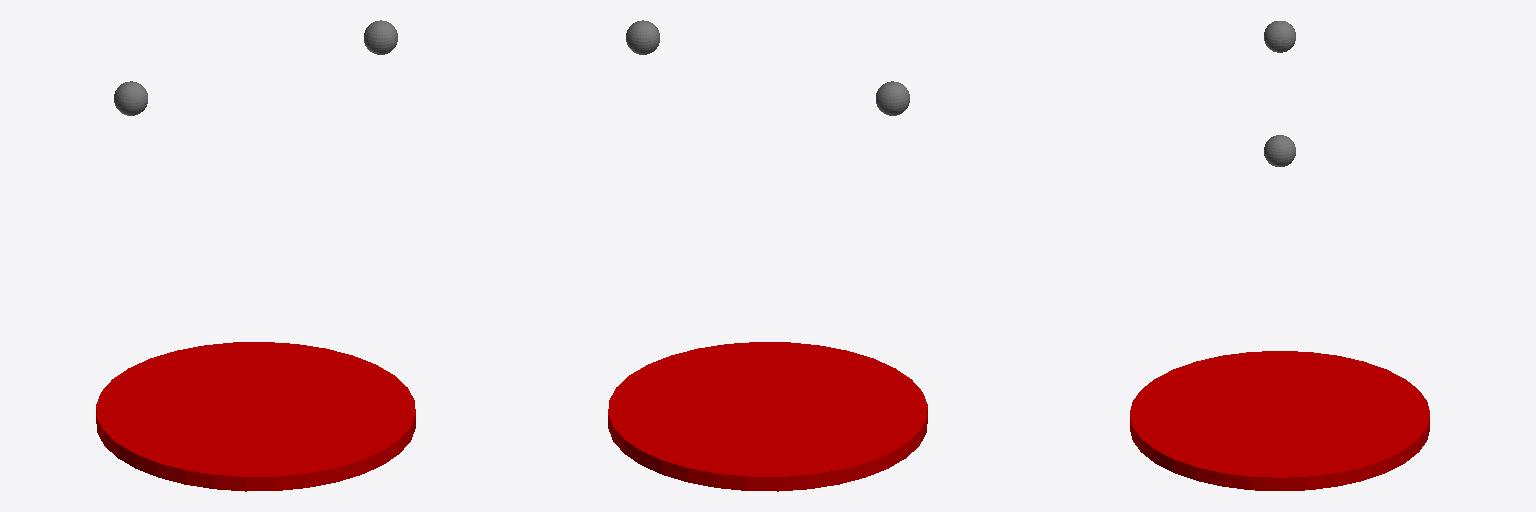
The robot description file, URDF, robot "robot":
<robot name="robot">

  <link name="base_link">
    <visual>
      <geometry>
        <cylinder length="0.05" radius="0.5"/>
      </geometry>
      <material name="red">
        <color rgba="0.8 0 0 0.6"/>
      </material>
      <origin rpy="0 0 0" xyz="0. 0 0"/>
    </visual>
    <collision>
      <geometry>
        <cylinder length="0.05" radius="0.5"/>
      </geometry>
      <origin rpy="0 0 0" xyz="0. 0 0"/>
    </collision>
    <inertial>
      <mass value="0.1"/>
      <inertia ixx="0.1" ixy="0.0" ixz="0.0" iyy="0.1" iyz="0.0" izz="0.1"/>
    </inertial>
  </link>
  
  <link name="f1_link1">
    <visual>
      <geometry>
        <capsule length="0.2" radius="0.05"/>
      </geometry>
      <material name="red">
        <color rgba="0.8 0 0 1"/>
      </material>
      <origin rpy="0 0 0" xyz="0 0 0.1"/>
    </visual>
    <collision>
      <geometry>
        <capsule length="0.2" radius="0.05"/>
      </geometry>
      <origin rpy="0 0 0" xyz="0 0 0.1"/>
    </collision>
    <inertial>
      <mass value="0.2"/>
      <inertia ixx="1.0" ixy="0.0" ixz="0.0" iyy="1.0" iyz="0.0" izz="1.0"/>
    </inertial>
  </link>
  
  <link name="f1_link2">
    <visual>
      <geometry>
        <capsule length="0.5" radius="0.05"/>
      </geometry>
      <material name="green">
        <color rgba="0 0.8 0 1"/>
      </material>
      <origin rpy="0 0 0" xyz="0 0 0.25"/>
    </visual>
    <collision>
      <geometry>
        <capsule length="0.5" radius="0.05"/>
      </geometry>
      <origin rpy="0 0 0" xyz="0 0 0.25"/>
    </collision>
    <inertial>
      <mass value="0.2"/>
      <inertia ixx="1.0" ixy="0.0" ixz="0.0" iyy="1.0" iyz="0.0" izz="1.0"/>
    </inertial>
  </link>

  <link name="f1_link3">
    <visual>
      <geometry>
        <capsule length="0.5" radius="0.05"/>
      </geometry>
      <material name="blue">
        <color rgba="0 0 0.8 1"/>
      </material>
      <origin rpy="0 0 0" xyz="0 0 0.25"/>
    </visual>
    <collision>
      <geometry>
        <capsule length="0.5" radius="0.05"/>
      </geometry>
      <origin rpy="0 0 0" xyz="0 0 0.25"/>
    </collision>
    <inertial>
      <mass value="0.2"/>
      <inertia ixx="1.0" ixy="0.0" ixz="0.0" iyy="1.0" iyz="0.0" izz="1.0"/>
    </inertial>
  </link>

  <link name="f1_eePoint">
    <visual>
      <geometry>
        <sphere  radius="0.054"/>
      </geometry>
      <material name="grey">
        <color rgba="0.5 0.5 0.5 1"/>
      </material>
      <origin rpy="0 0 0" xyz="0 0 0.0"/>
    </visual>
    <collision>
      <geometry>
        <sphere radius="0.054"/>
      </geometry>
      <origin rpy="0 0 0" xyz="0 0 0.0"/>
    </collision>
    <inertial>
      <mass value="0.001"/>
      <inertia ixx="1.0" ixy="0.0" ixz="0.0" iyy="1.0" iyz="0.0" izz="1.0"/>
    </inertial>
  </link>

  <link name="f2_link1">
    <visual>
      <geometry>
        <capsule length="0.2" radius="0.05"/>
      </geometry>
      <material name="red">
        <color rgba="0.8 0 0 1"/>
      </material>
      <origin rpy="0 0 0" xyz="0 0 0.1"/>
    </visual>
    <collision>
      <geometry>
        <capsule length="0.2" radius="0.05"/>
      </geometry>
      <origin rpy="0 0 0" xyz="0 0 0.1"/>
    </collision>
    <inertial>
      <mass value="0.2"/>
      <inertia ixx="1.0" ixy="0.0" ixz="0.0" iyy="1.0" iyz="0.0" izz="1.0"/>
    </inertial>
  </link>
  
  <link name="f2_link2">
    <visual>
      <geometry>
        <capsule length="0.5" radius="0.05"/>
      </geometry>
      <material name="green">
        <color rgba="0 0.8 0 1"/>
      </material>
      <origin rpy="0 0 0" xyz="0 0 0.25"/>
    </visual>
    <collision>
      <geometry>
        <capsule length="0.5" radius="0.05"/>
      </geometry>
      <origin rpy="0 0 0" xyz="0 0 0.25"/>
    </collision>
    <inertial>
      <mass value="0.2"/>
      <inertia ixx="1.0" ixy="0.0" ixz="0.0" iyy="1.0" iyz="0.0" izz="1.0"/>
    </inertial>
  </link>

  <link name="f2_link3">
    <visual>
      <geometry>
        <capsule length="0.5" radius="0.05"/>
      </geometry>
      <material name="blue">
        <color rgba="0 0 0.8 1"/>
      </material>
      <origin rpy="0 0 0" xyz="0 0 0.25"/>
    </visual>
    <collision>
      <geometry>
        <capsule length="0.5" radius="0.05"/>
      </geometry>
      <origin rpy="0 0 0" xyz="0 0 0.25"/>
    </collision>
    <inertial>
      <mass value="0.2"/>
      <inertia ixx="1.0" ixy="0.0" ixz="0.0" iyy="1.0" iyz="0.0" izz="1.0"/>
    </inertial>
  </link>

  <link name="f2_eePoint">
    <visual>
      <geometry>
        <sphere  radius="0.054"/>
      </geometry>
      <material name="grey">
        <color rgba="0.5 0.5 0.5 1"/>
      </material>
      <origin rpy="0 0 0" xyz="0 0 0.0"/>
    </visual>
    <collision>
      <geometry>
        <sphere radius="0.054"/>
      </geometry>
      <origin rpy="0 0 0" xyz="0 0 0.0"/>
    </collision>
    <inertial>
      <mass value="0.001"/>
      <inertia ixx="1.0" ixy="0.0" ixz="0.0" iyy="1.0" iyz="0.0" izz="1.0"/>
    </inertial>
  </link>

  <joint name="f1_joint1" type="revolute">
    <parent link="base_link"/>
    <child link="f1_link1"/>
    <origin xyz="0.45 0 0." rpy="0 0 0" />
    <axis xyz = "1 0 0" />
    <dynamics damping="0.0" friction="0.0"/>
    <limit effort="300" velocity="1.0" lower="-2.35619" upper="2.35619" />
  </joint>

  <joint name="f1_joint2" type="revolute">
    <parent link="f1_link1"/>
    <child link="f1_link2"/>
    <origin xyz="0 0 0.2" rpy="0 0 0" />
    <axis xyz = "0 1 0" />
    <dynamics damping="0.0" friction="0.0"/>
    <limit effort="300" velocity="1.0" lower="-2.35619" upper="2.35619" />
  </joint>

  <joint name="f1_joint3" type="revolute">
    <parent link="f1_link2"/>
    <child link="f1_link3"/>
    <origin xyz="0 0 0.5" rpy="0 0 0" />
    <axis xyz = "0 1 0" />
    <dynamics damping="0.0" friction="0.0"/>
    <limit effort="300" velocity="1.0" lower="-2.35619" upper="2.96706" />
  </joint>

  <joint name="f1_joint4" type="fixed">
    <parent link="f1_link3"/>
    <child link="f1_eePoint"/>
    <origin xyz="0. 0. 0.5"/>
  </joint>

  <joint name="f2_joint1" type="revolute">
    <parent link="base_link"/>
    <child link="f2_link1"/>
    <origin xyz="-0.45 0 0" rpy="0 0 3.14159" />
    <axis xyz = "1 0 0" />
    <dynamics damping="0.0" friction="0.0"/>
    <limit effort="300" velocity="1.0" lower="-2.35619" upper="2.35619" />
  </joint>

  <joint name="f2_joint2" type="revolute">
    <parent link="f2_link1"/>
    <child link="f2_link2"/>
    <origin xyz="0 0 0.2" rpy="0 0 0" />
    <axis xyz = "0 1 0" />
    <dynamics damping="0.0" friction="0.0"/>
    <limit effort="300" velocity="1.0" lower="-2.35619" upper="2.35619" />
  </joint>

  <joint name="f2_joint3" type="revolute">
    <parent link="f2_link2"/>
    <child link="f2_link3"/>
    <origin xyz="0 0 0.5" rpy="0 0 0" />
    <axis xyz = "0 1 0" />
    <dynamics damping="0.0" friction="0.0"/>
    <limit effort="300" velocity="1.0" lower="-2.35619" upper="2.96706" />
  </joint>

  <joint name="f2_joint4" type="fixed">
    <parent link="f2_link3"/>
    <child link="f2_eePoint"/>
    <origin xyz="0. 0. 0.5"/>
  </joint>

</robot>

--- What the picture shows (computed from the rendered views, not written in the file) ---
The picture shows the robot from 3 angles, left to right: view 1: azimuth 30°, elevation 25°; view 2: azimuth 150°, elevation 25°; view 3: azimuth 270°, elevation 25°; orthographic projection.
Robot: robot — 9 links, 8 joints (6 revolute, 2 fixed); root link base_link; default pose: every joint at zero.
Links seen in each view (by area): view 1: base_link, f2_eePoint, f1_eePoint; view 2: base_link, f2_eePoint, f1_eePoint; view 3: base_link, f2_eePoint, f1_eePoint.
Link boxes in pixels (x1=…): base_link: x1=96, y1=342, x2=415, y2=491; f2_eePoint: x1=114, y1=81, x2=147, y2=115; f1_eePoint: x1=364, y1=20, x2=397, y2=54; base_link: x1=608, y1=342, x2=927, y2=491; f2_eePoint: x1=876, y1=81, x2=909, y2=115; f1_eePoint: x1=626, y1=20, x2=659, y2=54; base_link: x1=1130, y1=351, x2=1429, y2=490; f2_eePoint: x1=1264, y1=21, x2=1295, y2=52; f1_eePoint: x1=1264, y1=135, x2=1295, y2=166.
Size in the robot's own frame: 1.01 by 1 by 1.28 metres.
Geometry: primitives only (box / cylinder / sphere), no mesh files.